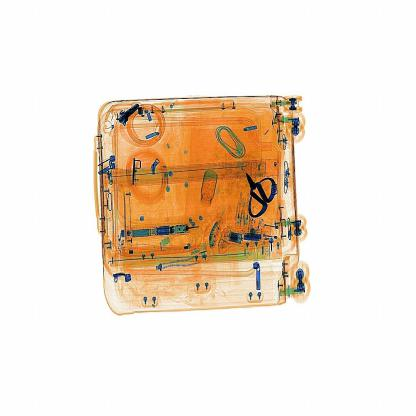gun: (235, 159, 283, 220)
